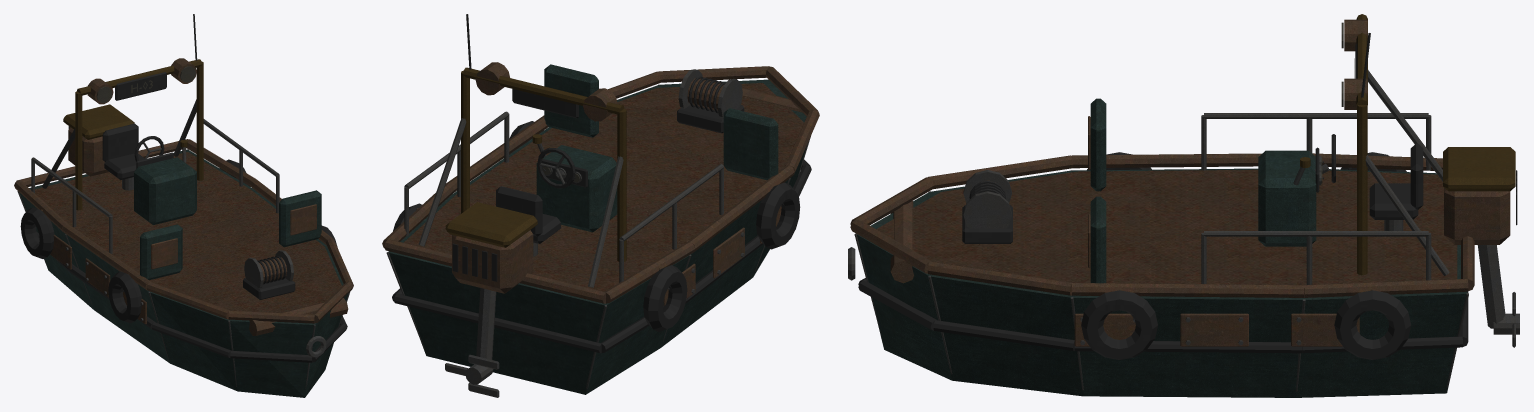
File: scrap-raider.glb
3 renders of one model, left to right at view 1: azimuth 30°, elevation 25°; view 2: azimuth 150°, elevation 25°; view 3: azimuth 270°, elevation 25°, orthographic. The views are drawn at different scales.
Visible parts, largest first — view 1: ScrapRaider_Boat_Geometry; view 2: ScrapRaider_Boat_Geometry; view 3: ScrapRaider_Boat_Geometry.
Boxes of the visible parts, x1,y1,x2,y2 form: ScrapRaider_Boat_Geometry: [14, 14, 353, 397]; ScrapRaider_Boat_Geometry: [382, 14, 819, 394]; ScrapRaider_Boat_Geometry: [848, 14, 1519, 397].
Bounding box in the file's own units: 3.28 × 3.73 × 6.37.
7 materials, 7 textured.
